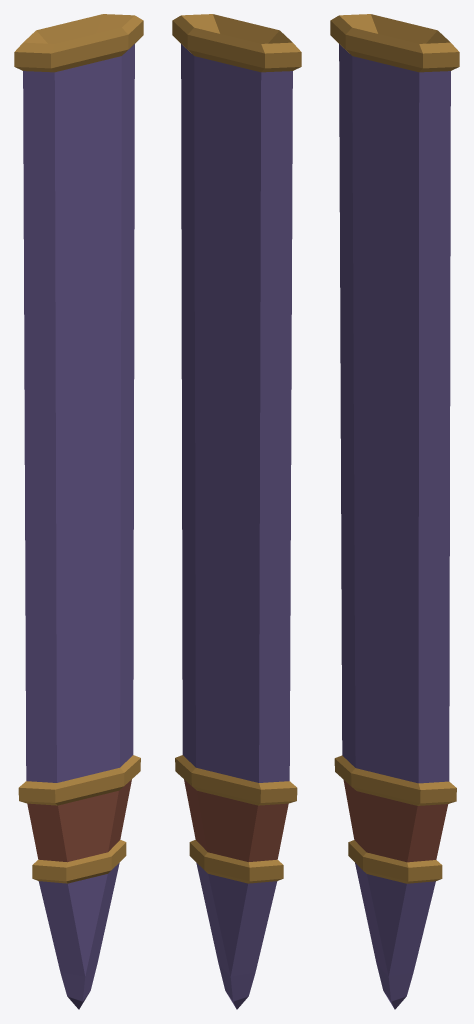
File: SM_pwe_rome_sword_scabbard_01.fbx
3 renders of one model, left to right at view 1: azimuth 30°, elevation 25°; view 2: azimuth 150°, elevation 25°; view 3: azimuth 330°, elevation 25°, orthographic.
Visible parts, largest first — view 1: SM_pwe_rome_sword_scabbard_01; view 2: SM_pwe_rome_sword_scabbard_01; view 3: SM_pwe_rome_sword_scabbard_01.
Part boxes in pixels (left/top/right/bottom): SM_pwe_rome_sword_scabbard_01: left=14, top=14, right=143, bottom=1009; SM_pwe_rome_sword_scabbard_01: left=172, top=14, right=301, bottom=1009; SM_pwe_rome_sword_scabbard_01: left=330, top=14, right=459, bottom=1009.
Bounding box in the file's own units: 8.93 × 64.87 × 2.58.
